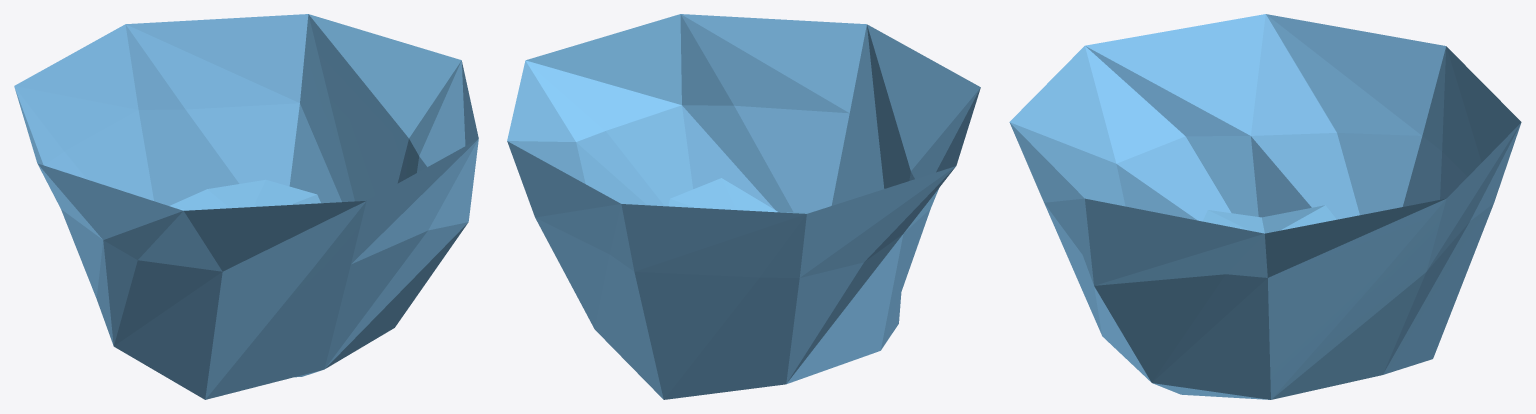
The model's file is sp_plant05.glb.
3 renders of one model, left to right at view 1: azimuth 30°, elevation 25°; view 2: azimuth 150°, elevation 25°; view 3: azimuth 270°, elevation 25°, orthographic. The views are drawn at different scales.
Visible parts, largest first — view 1: SP_Plant05; view 2: SP_Plant05; view 3: SP_Plant05.
Part boxes in pixels (x1,y1,x2,y2): SP_Plant05: (14,14,478,399); SP_Plant05: (507,14,980,399); SP_Plant05: (1009,14,1521,399).
Size of the model in its own units: 29.89 by 15.04 by 29.46.
Materials: 1 (1 with a texture image).
